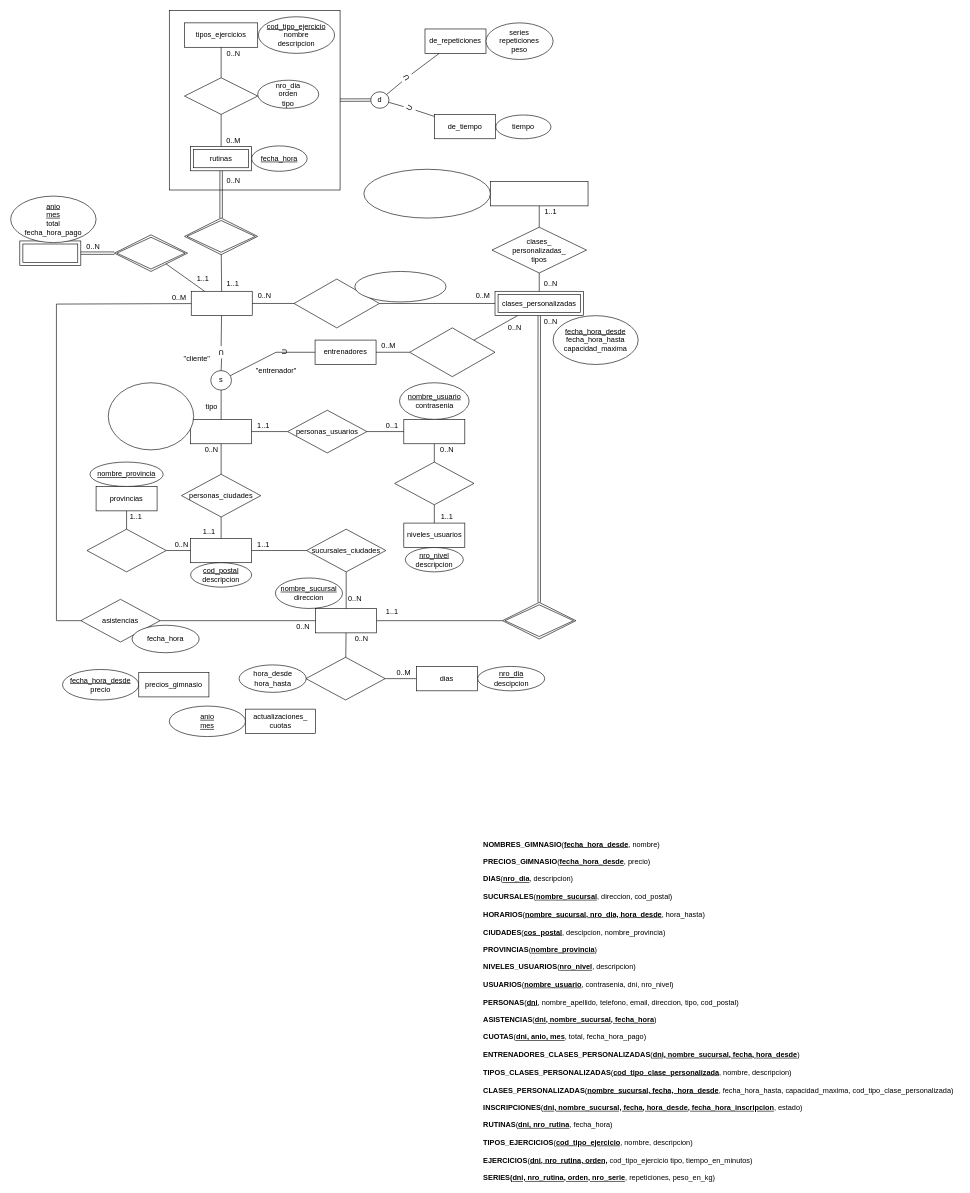
Image size: 970x1193. Some labels were removed from this diagram. The shapes that lost their labels are listed below. From the top down, each one's centre as x and y in pixels, then its label:
At [221,95]: "ejercicios".
At [426,193]: "cod_tipo_clase_personalizada nombre descripcion precio_x_clase".
At [539,193]: "tipos_clases_personalizadas".
At [50,252]: "cuotas".
At [221,303]: "clientes".
At [336,303]: "inscripciones".
At [400,286]: "fecha_hora_inscripcion estado".
At [452,352]: "encargados".
At [151,416]: "dni nombre_apellido telefono email direccion tipo".
At [221,431]: "personas".
At [434,431]: "usuarios".
At [434,483]: "usuarios_niveles".
At [126,550]: "ciudades_provincias".
At [221,550]: "ciudades".
At [346,620]: "sucursales".
At [345,678]: "horarios".
